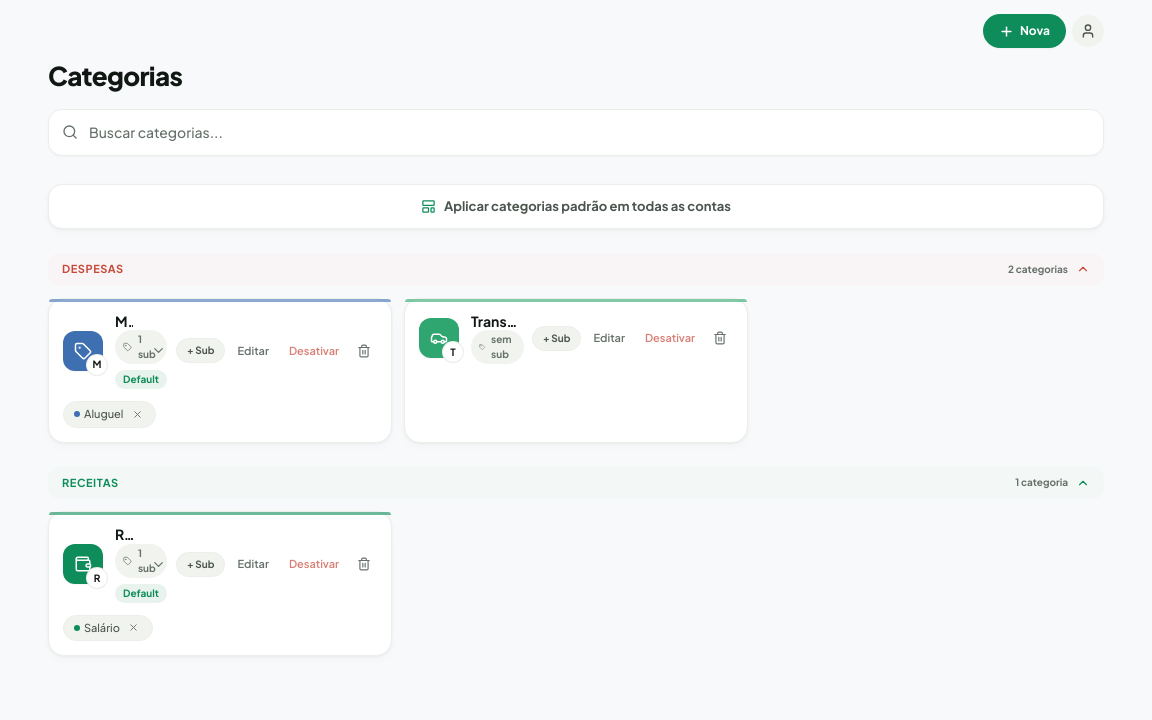
Scenario: CategoriesPage — macros, defaults e exclusão (item 11) › aplica defaults em todas as contas e mostra resumo
Click the button "Aplicar categorias padrão em todas as contas" at (576, 206), box [48,184,1104,229]
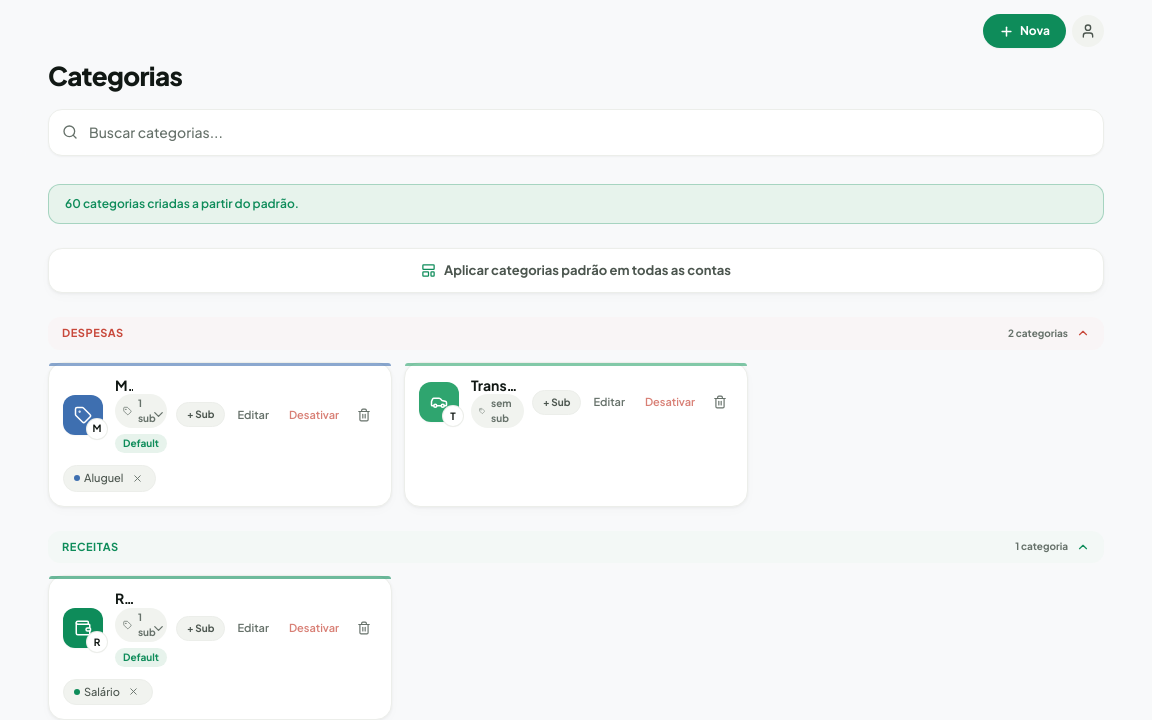
Check: the text "60 categorias criadas a partir do padrão." is shown, box [48,184,1104,224]
